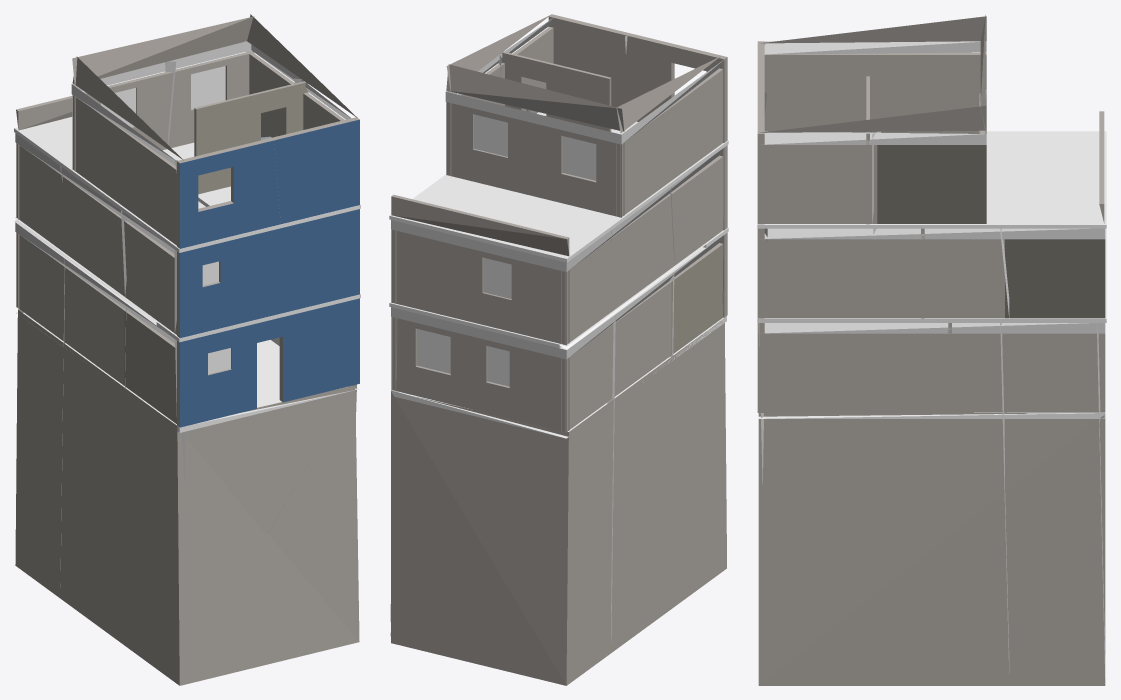
3 renders of one model, left to right at view 1: azimuth 30°, elevation 25°; view 2: azimuth 150°, elevation 25°; view 3: azimuth 270°, elevation 25°, orthographic. The views are drawn at different scales.
Visible parts, largest first — view 1: F_26; view 2: F_26; view 3: F_26.
Boxes of the visible parts, box(x1,y1,x2,y2) form: F_26: box(14, 14, 360, 685); F_26: box(389, 14, 728, 685); F_26: box(757, 15, 1106, 685).
Size of the model in its own units: 6.06 by 17.52 by 9.56.
